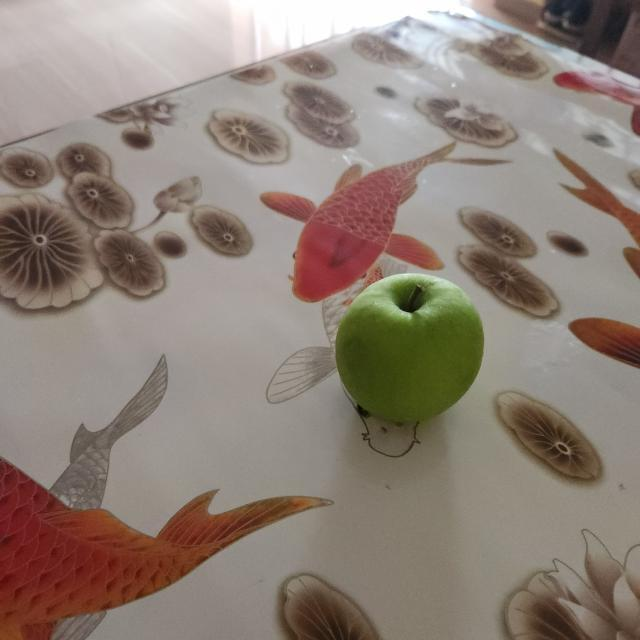apple: (329, 268, 492, 434)
